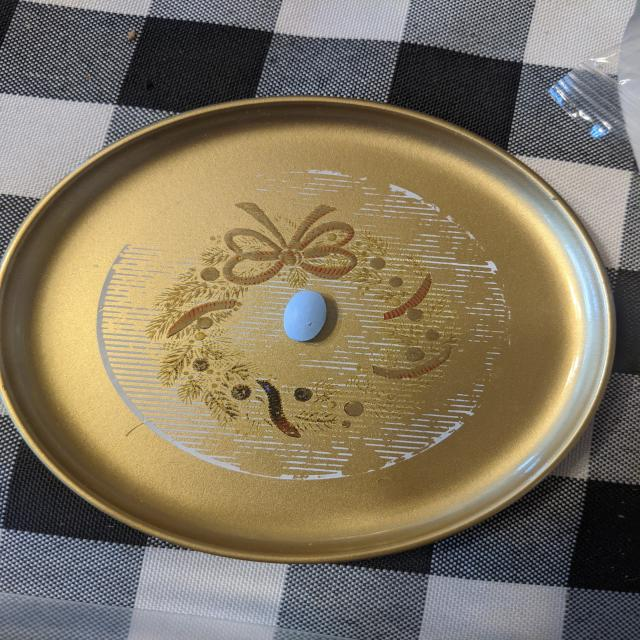non-organic waste: (282, 290, 328, 342)
